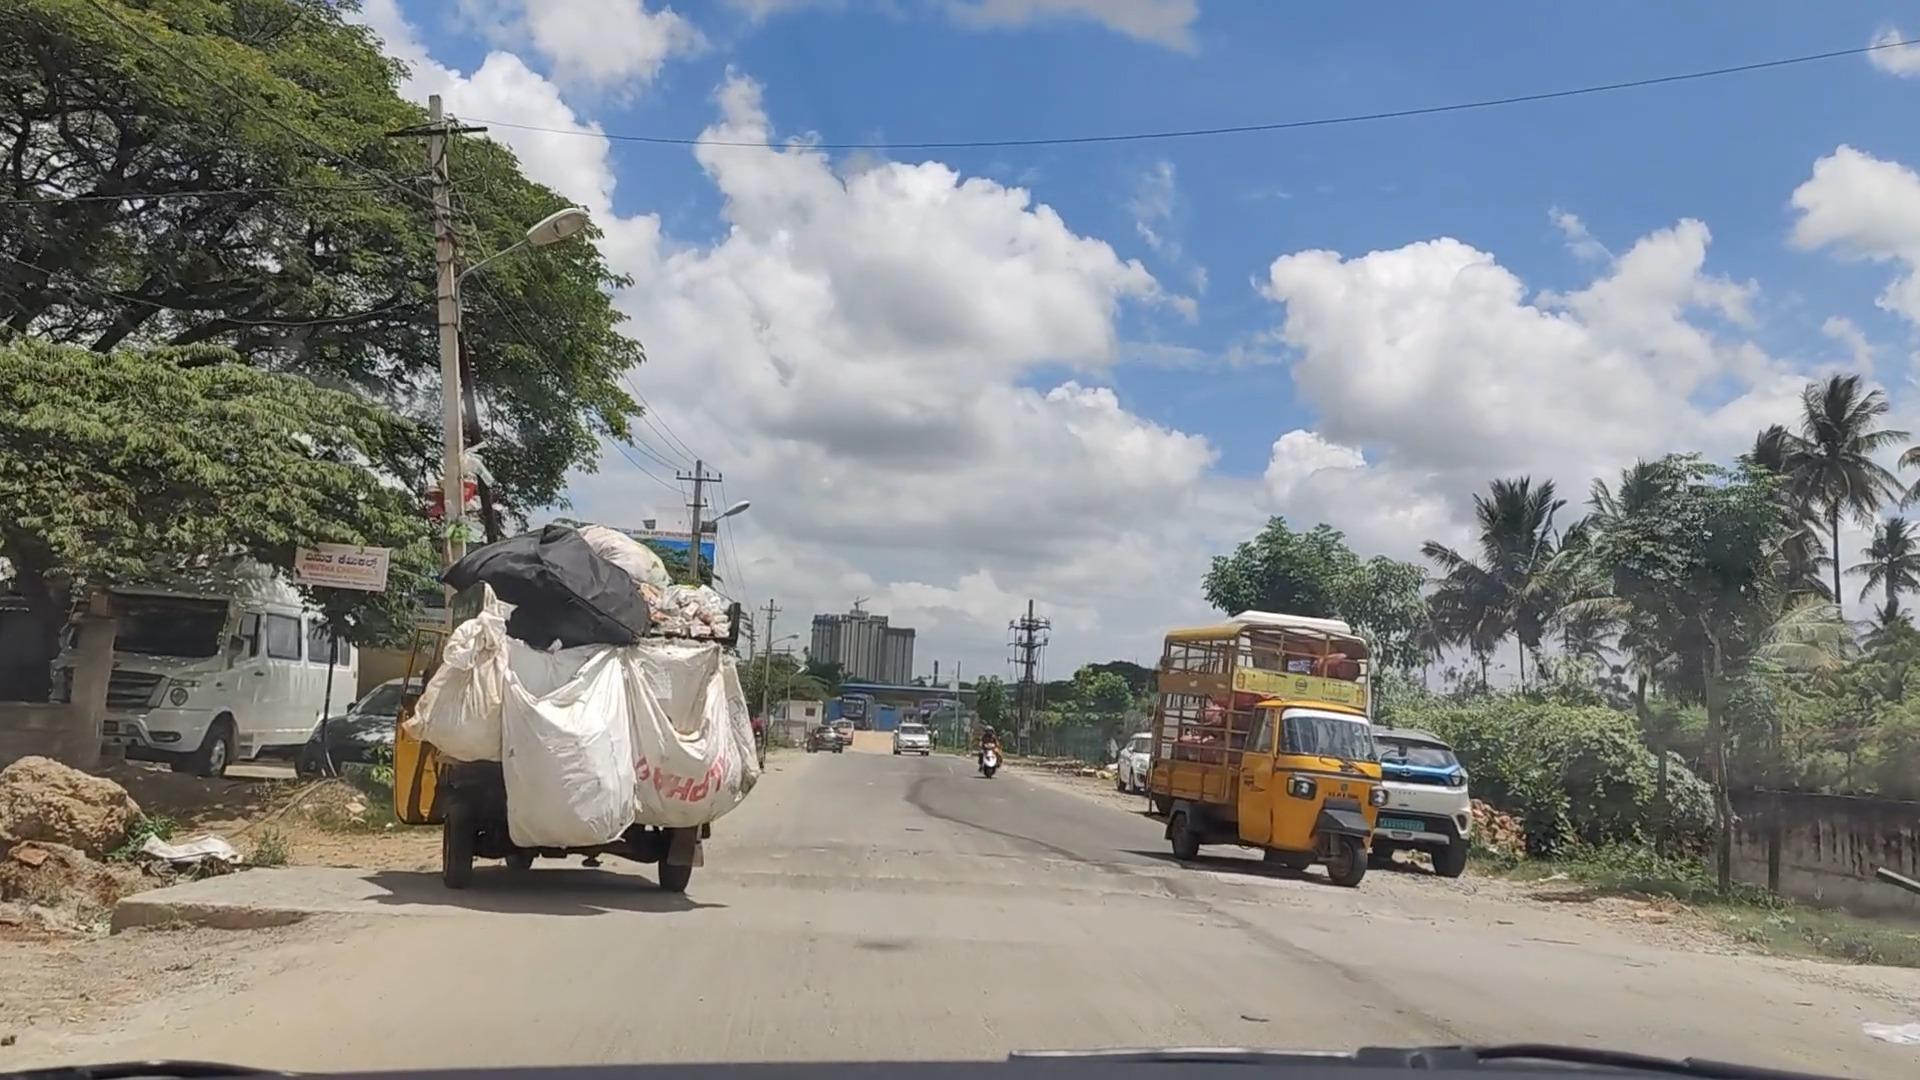HMV: (420, 528, 745, 922), (1151, 618, 1425, 926), (989, 684, 1016, 688)
